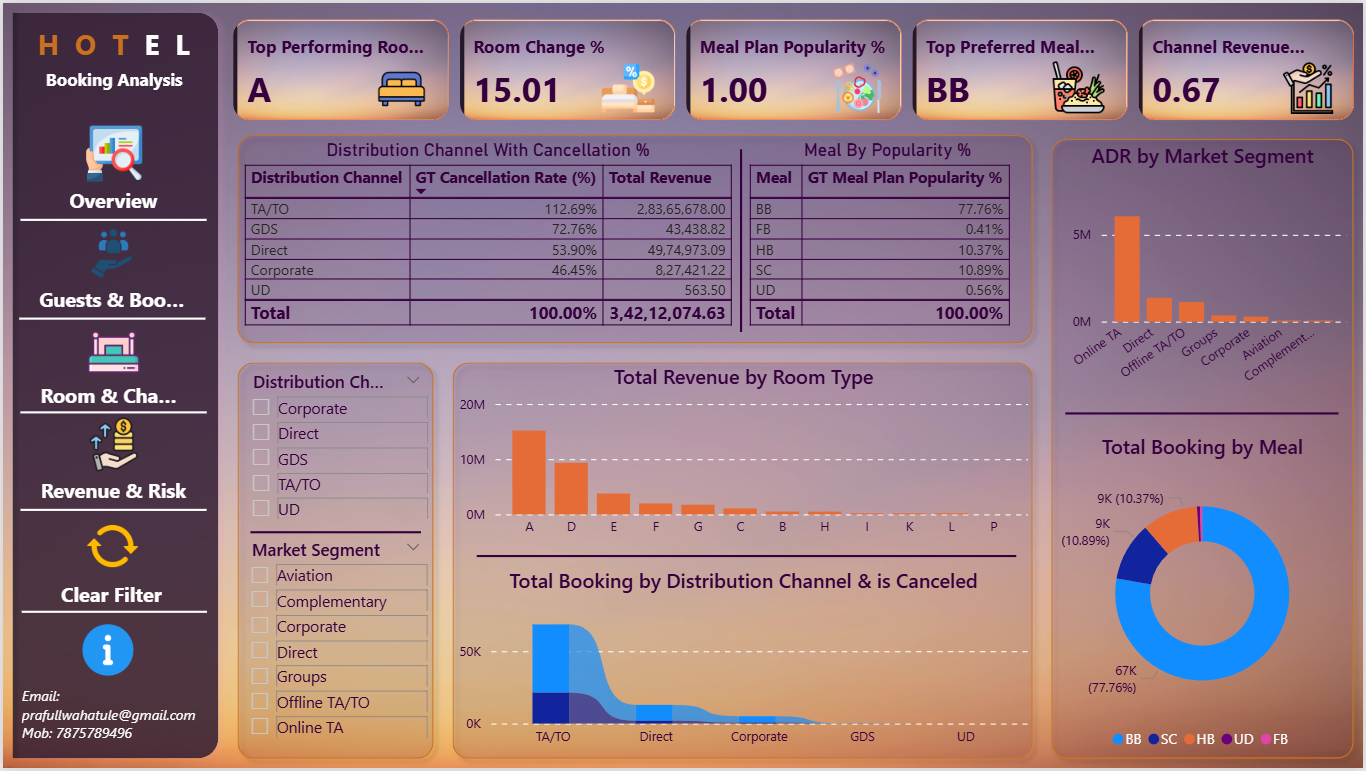

Layout of this report page (visuals, bound fields, positions):
{"tool":"powerbi","page":{"name":"Room, Meal & Channel Performance","canvas":[1280,720],"ordinal":2},"visuals":[{"type":"group","id":"g1","title":"Group 9","box":[0,0,211.8,720],"z":0,"group":"g11"},{"type":"shape","box":[0,0,211.8,720],"z":0,"group":"g4"},{"type":"cardVisual","fields":{"Data":["Hotel Bookings.Top Performing Room Type","Hotel Bookings.Room Change %","Hotel Bookings.Meal Plan Popularity %","Hotel Bookings.Top Preferred Meal Plan","Hotel Bookings.Channel Revenue Contribution %"]},"box":[211.6,10.5,1068.6,105],"z":0,"group":"g9"},{"type":"group","id":"g2","title":"Group 3","box":[34.4,266.1,137.3,30.1],"z":0,"group":"g8"},{"type":"group","id":"g3","title":"Group 7","box":[32.9,543.5,138,28],"z":0,"group":"g10"},{"type":"image","box":[61.5,575.3,75.7,67.1],"z":0,"group":"g7"},{"type":"group","id":"g4","title":"Group 1","box":[0,0,211.8,720],"z":500,"group":"g1"},{"type":"image","box":[345,50.3,60.3,60.3],"z":1000,"group":"g9"},{"type":"textbox","box":[15.4,55.3,178.8,35],"z":1000,"group":"g7"},{"type":"shape","box":[211.6,115.1,766.3,214],"z":1000,"group":"g11"},{"type":"group","id":"g5","title":"Group 4","box":[35.6,356.7,137.3,27.7],"z":1000,"group":"g8"},{"type":"image","box":[65.8,481.4,74.3,60],"z":1000,"group":"g10"},{"type":"image","box":[558.3,50.3,59.2,59.2],"z":2000,"group":"g9"},{"type":"tableEx","title":"Distribution Channel With Cancellation %","fields":{"Values":["Hotel Bookings.distribution_channel","Hotel Bookings.Cancellation Rate (%)","Hotel Bookings.Total Revenue"]},"box":[220.9,127.9,470.9,195.3],"z":2000,"group":"g11"},{"type":"image","box":[66.9,385,74.7,61.4],"z":2000,"group":"g7"},{"type":"group","id":"g6","title":"Group 5","box":[35.6,446.5,137.3,27.7],"z":2000,"group":"g8"},{"type":"group","id":"g7","title":"Group 2","box":[12.9,15.3,182.5,627.1],"z":3000,"group":"g8"},{"type":"image","box":[773.8,50.3,59.2,59.2],"z":3000,"group":"g9"},{"type":"image","box":[66.9,110.7,75.2,62.7],"z":3000,"group":"g7"},{"type":"tableEx","title":"Meal By Popularity %","fields":{"Values":["Hotel Bookings.meal","Hotel Bookings.Meal Plan Popularity %"]},"box":[696.5,127.9,272.1,195.3],"z":3000,"group":"g11"},{"type":"image","box":[982.6,49.2,60.3,60.3],"z":4000,"group":"g9"},{"type":"shape","box":[977.9,118.6,302.3,601.2],"z":4000,"group":"g11"},{"type":"image","box":[65,204.8,75.3,61.2],"z":4000,"group":"g7"},{"type":"image","box":[1198.1,50.3,59.2,59.2],"z":5000,"group":"g9"},{"type":"actionButton","title":"Guests & Booking","box":[34.4,266.1,137.3,30.1],"z":5000,"group":"g2"},{"type":"image","box":[66.6,297.9,74.7,61.4],"z":5000,"group":"g7"},{"type":"shape","box":[211.6,329.1,202.3,390.7],"z":5000,"group":"g11"},{"type":"actionButton","title":"Room & Channel","box":[35.6,356.7,137.3,27.7],"z":5000,"group":"g5"},{"type":"actionButton","title":"Revenue & Risk","box":[35.6,446.5,137.3,27.7],"z":5000,"group":"g6"},{"type":"actionButton","title":"Overview","box":[35.6,172.9,137.3,28.9],"z":6000,"group":"g7"},{"type":"slicer","fields":{"Values":["Hotel Bookings.distribution_channel"]},"box":[222.1,339.5,182.6,158.1],"z":6000,"group":"g11"},{"type":"shape","box":[16.8,201.3,175.3,5.9],"z":7000,"group":"g7"},{"type":"slicer","fields":{"Values":["Hotel Bookings.market_segment"]},"box":[220.9,497.7,183.7,210.5],"z":7000,"group":"g11"},{"type":"shape","box":[15.6,294.2,175.3,5.9],"z":8000,"group":"g7"},{"type":"shape","box":[414,329.1,564,390.7],"z":8000,"group":"g11"},{"type":"shape","box":[16.8,382.4,175.3,5.9],"z":9000,"group":"g7"},{"type":"shape","box":[232.6,487.2,160.5,22.1],"z":9000,"group":"g11"},{"type":"shape","box":[688.4,137.2,12.8,172.1],"z":10000,"group":"g11"},{"type":"shape","box":[16.8,474.2,175.3,5.9],"z":10000,"group":"g7"},{"type":"columnChart","title":"ADR by Market Segment","fields":{"Y":["Sum(Hotel Bookings.adr)"],"Category":["Hotel Bookings.market_segment"]},"box":[988.7,130.5,281.4,240.4],"z":11000,"group":"g11"},{"type":"shape","box":[17.2,569.6,174.3,7.1],"z":11000,"group":"g7"},{"type":"textbox","box":[12.9,15.3,182.5,52.5],"z":12000,"group":"g7"},{"type":"shape","box":[1000.2,381.1,257.1,10.2],"z":12000,"group":"g11"},{"type":"columnChart","title":"Total Revenue by Room Type","fields":{"Category":["Hotel Bookings.assigned_room_type"],"Y":["Hotel Bookings.Total Revenue"]},"box":[424.6,338.9,544.8,172.7],"z":13000,"group":"g11"},{"type":"shape","box":[446.4,514.2,507.8,12.8],"z":14000,"group":"g11"},{"type":"ribbonChart","title":"Total Booking by Distribution Channel & is Canceled","fields":{"Category":["Hotel Bookings.distribution_channel"],"Series":["Hotel Bookings.is_canceled"],"Y":["Hotel Bookings.Total Booking"]},"box":[424.6,530.8,544.8,177.8],"z":15000,"group":"g11"},{"type":"group","id":"g8","title":"Group 8","box":[12.9,15.3,182.5,627.1],"z":16000,"group":"g1"},{"type":"donutChart","title":"Total Booking by Meal","fields":{"Category":["Hotel Bookings.meal"],"Y":["Hotel Bookings.Total Booking"]},"box":[988.7,404.2,281.4,307],"z":16000,"group":"g11"},{"type":"group","id":"g9","title":"Group 6","box":[211.6,10.5,1068.6,105],"z":17000,"group":"g11"},{"type":"actionButton","title":"Clear Filter","box":[32.9,543.5,138,28],"z":17500,"group":"g3"},{"type":"group","id":"g10","title":"Group 10","box":[32.9,481.4,138,90.1],"z":18000,"group":"g11"},{"type":"group","id":"g11","title":"Group 11","box":[0,0,1280.2,720],"z":18001,"group":"g12"},{"type":"textbox","box":[12.9,637.1,184.3,68.6],"z":18002,"group":"g12"},{"type":"group","id":"g12","title":"Group 12","box":[0,0,1280.2,720],"z":18003}]}

Visuals, with their boxes in screenshot pixels (x1, y1, x2, y2), scaled from the page's 1280x720 canvas onto the 1366x771 screenshot:
"Group 9" group: left=0, top=0, right=226, bottom=770
shape: left=0, top=0, right=226, bottom=770
cardVisual - Hotel Bookings.Top Performing Room Type x Hotel Bookings.Room Change %: left=226, top=11, right=1365, bottom=124
"Group 3" group: left=37, top=285, right=183, bottom=317
"Group 7" group: left=35, top=582, right=182, bottom=612
image: left=66, top=616, right=146, bottom=688
"Group 1" group: left=0, top=0, right=226, bottom=770
image: left=368, top=54, right=433, bottom=118
textbox: left=16, top=59, right=207, bottom=97
shape: left=226, top=123, right=1044, bottom=352
"Group 4" group: left=38, top=382, right=185, bottom=412
image: left=70, top=515, right=150, bottom=580
image: left=596, top=54, right=659, bottom=117
"Distribution Channel With Cancellation %" tableEx: left=236, top=137, right=738, bottom=346
image: left=71, top=412, right=151, bottom=478
"Group 5" group: left=38, top=478, right=185, bottom=508
"Group 2" group: left=14, top=16, right=209, bottom=688
image: left=826, top=54, right=889, bottom=117
image: left=71, top=119, right=152, bottom=186
"Meal By Popularity %" tableEx: left=743, top=137, right=1034, bottom=346
image: left=1049, top=53, right=1113, bottom=117
shape: left=1044, top=127, right=1365, bottom=770
image: left=69, top=219, right=150, bottom=285
image: left=1279, top=54, right=1342, bottom=117
"Guests & Booking" actionButton: left=37, top=285, right=183, bottom=317
image: left=71, top=319, right=151, bottom=385
shape: left=226, top=352, right=442, bottom=770
"Room & Channel" actionButton: left=38, top=382, right=185, bottom=412
"Revenue & Risk" actionButton: left=38, top=478, right=185, bottom=508
"Overview" actionButton: left=38, top=185, right=185, bottom=216
slicer - Hotel Bookings.distribution_channel: left=237, top=364, right=432, bottom=533
shape: left=18, top=216, right=205, bottom=222
slicer - Hotel Bookings.market_segment: left=236, top=533, right=432, bottom=758
shape: left=17, top=315, right=204, bottom=321
shape: left=442, top=352, right=1044, bottom=770
shape: left=18, top=409, right=205, bottom=416
shape: left=248, top=522, right=420, bottom=545
shape: left=735, top=147, right=748, bottom=331
shape: left=18, top=508, right=205, bottom=514
"ADR by Market Segment" columnChart: left=1055, top=140, right=1355, bottom=397
shape: left=18, top=610, right=204, bottom=618
textbox: left=14, top=16, right=209, bottom=73
shape: left=1067, top=408, right=1342, bottom=419
"Total Revenue by Room Type" columnChart: left=453, top=363, right=1035, bottom=548
shape: left=476, top=551, right=1018, bottom=564
"Total Booking by Distribution Channel & is Canceled" ribbonChart: left=453, top=568, right=1035, bottom=759
"Group 8" group: left=14, top=16, right=209, bottom=688
"Total Booking by Meal" donutChart: left=1055, top=433, right=1355, bottom=762
"Group 6" group: left=226, top=11, right=1365, bottom=124
"Clear Filter" actionButton: left=35, top=582, right=182, bottom=612
"Group 10" group: left=35, top=515, right=182, bottom=612
"Group 11" group: left=0, top=0, right=1365, bottom=770
textbox: left=14, top=682, right=210, bottom=756
"Group 12" group: left=0, top=0, right=1365, bottom=770
